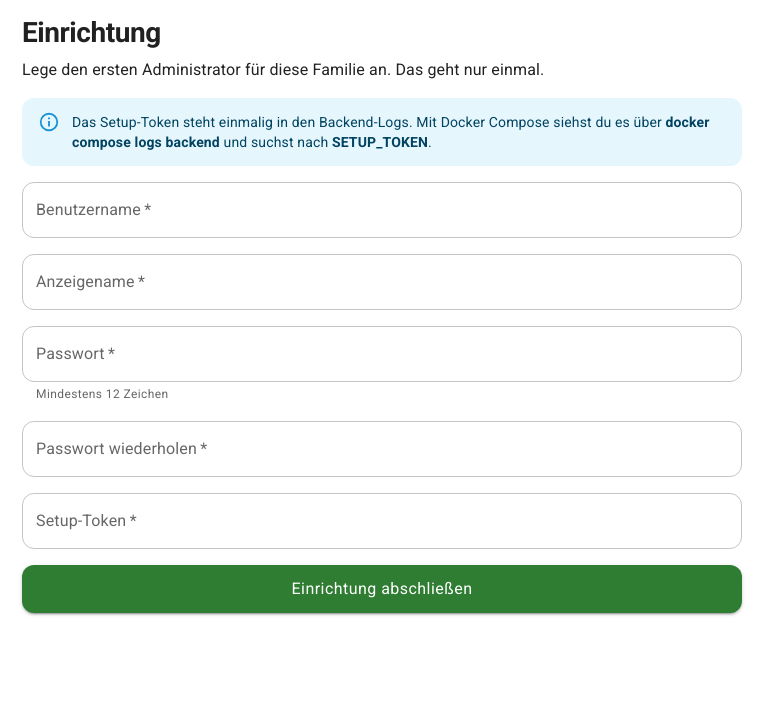
Test case: zeigt eine Fehlermeldung, wenn die Passwörter nicht übereinstimmen
This screenshot has width=765, height=704.
Expected: the heading "Einrichtung" is shown, [22,16,161,49]
In the field with test id "setup-username": (382, 210) [22,182,742,238], type "Ada"
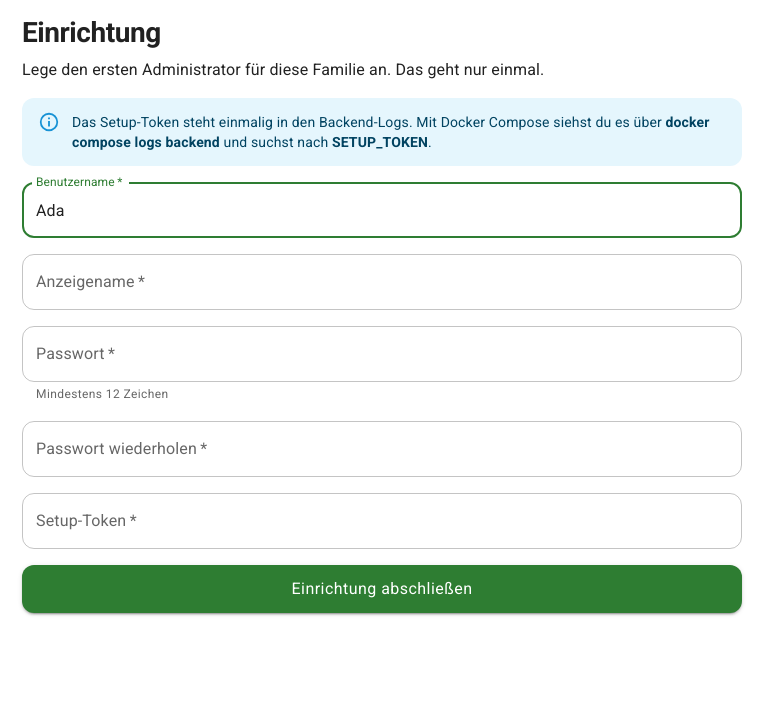
In the field with test id "setup-display-name": (382, 282) [22,254,742,310], type "Ada Lovelace"
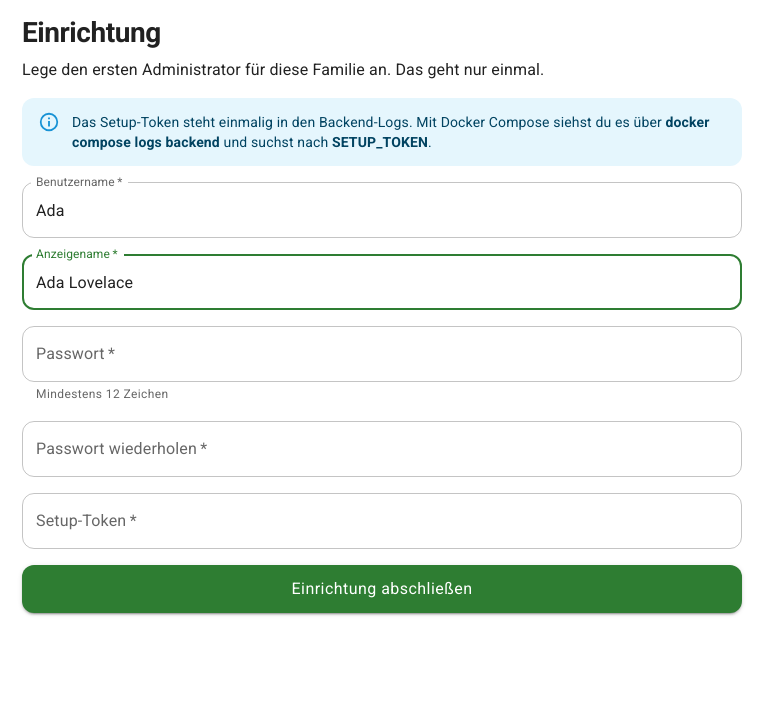
In the password field with test id "setup-password": (382, 354) [22,326,742,382], type "ein-langes-passwort"
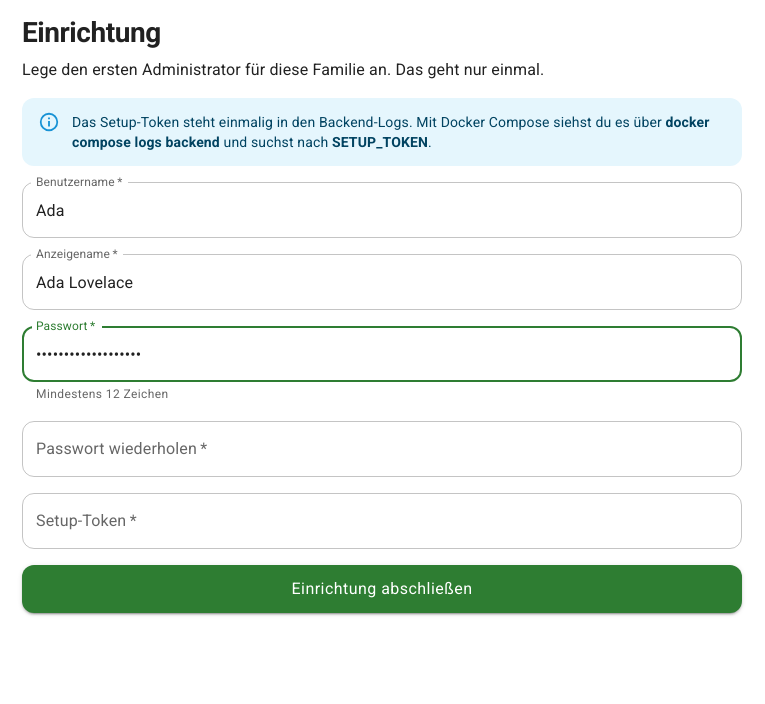
In the password field with test id "setup-password-confirm": (382, 449) [22,421,742,477], type "anderes-passwort-1"
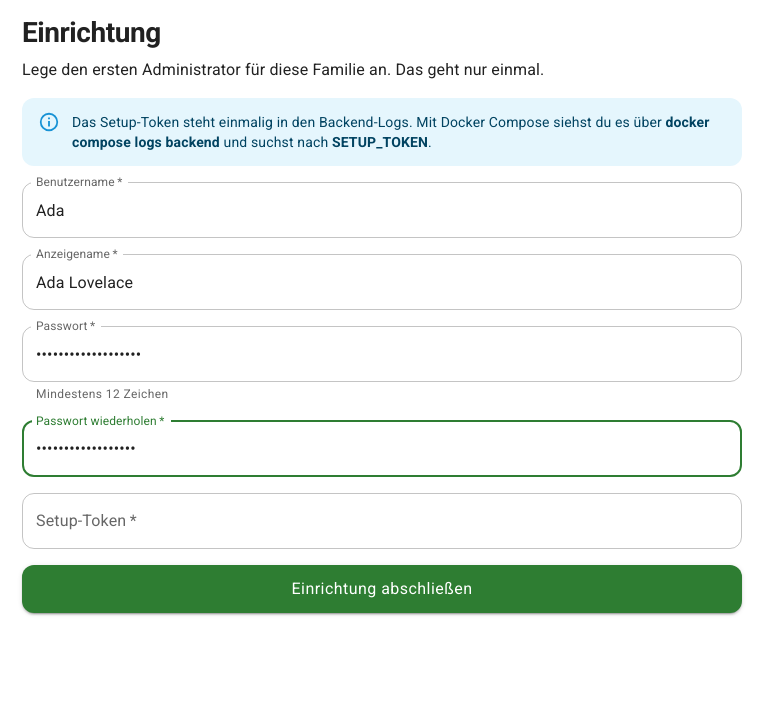
In the field with test id "setup-token": (382, 521) [22,493,742,549], type "token-wert"
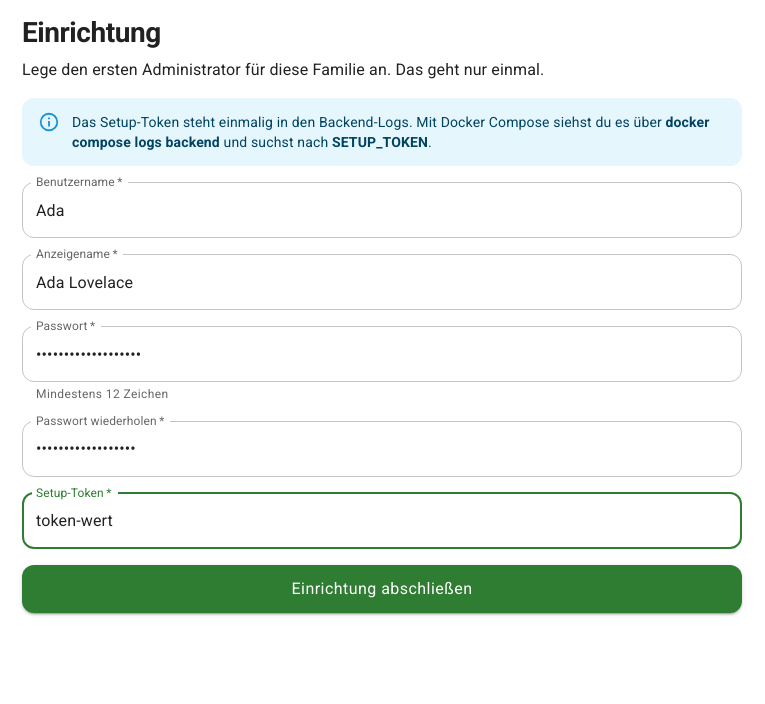
Click the button with test id "setup-submit": (382, 589) [22,565,742,613]
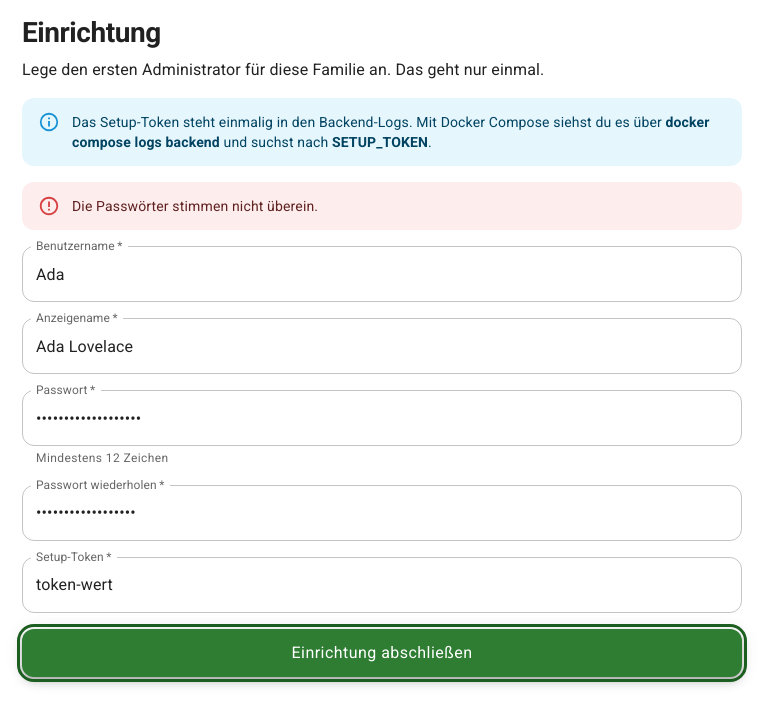
Result: the text "Die Passwörter stimmen nicht überein." is shown at [72,198,318,214]
